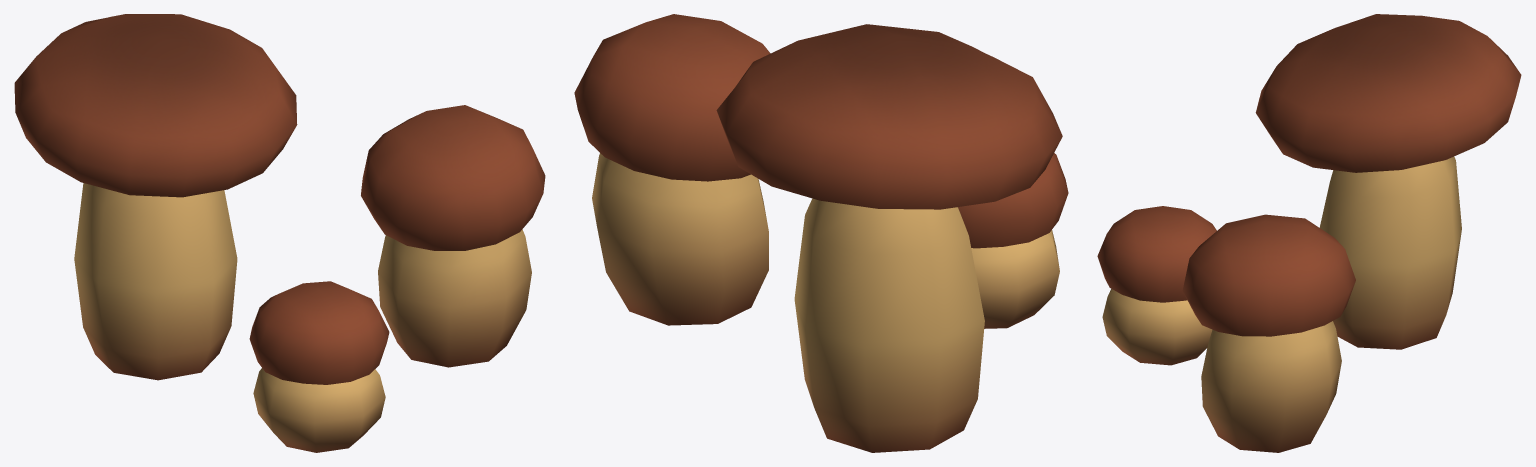
The model's file is Bay_Bolete_Group_2.fbx.
3 views of the same model, side by side, from view 1: azimuth 30°, elevation 25°; view 2: azimuth 150°, elevation 25°; view 3: azimuth 270°, elevation 25° (orthographic). The views are drawn at different scales.
Parts seen in each view (by area): view 1: Bay_Bolete_Group_2; view 2: Bay_Bolete_Group_2; view 3: Bay_Bolete_Group_2.
Boxes of the visible parts, bbox=[...] form: Bay_Bolete_Group_2: bbox=[14, 14, 545, 452]; Bay_Bolete_Group_2: bbox=[574, 14, 1068, 452]; Bay_Bolete_Group_2: bbox=[1097, 14, 1521, 452].
Size of the model in its own units: 27.55 by 19.35 by 24.78.
